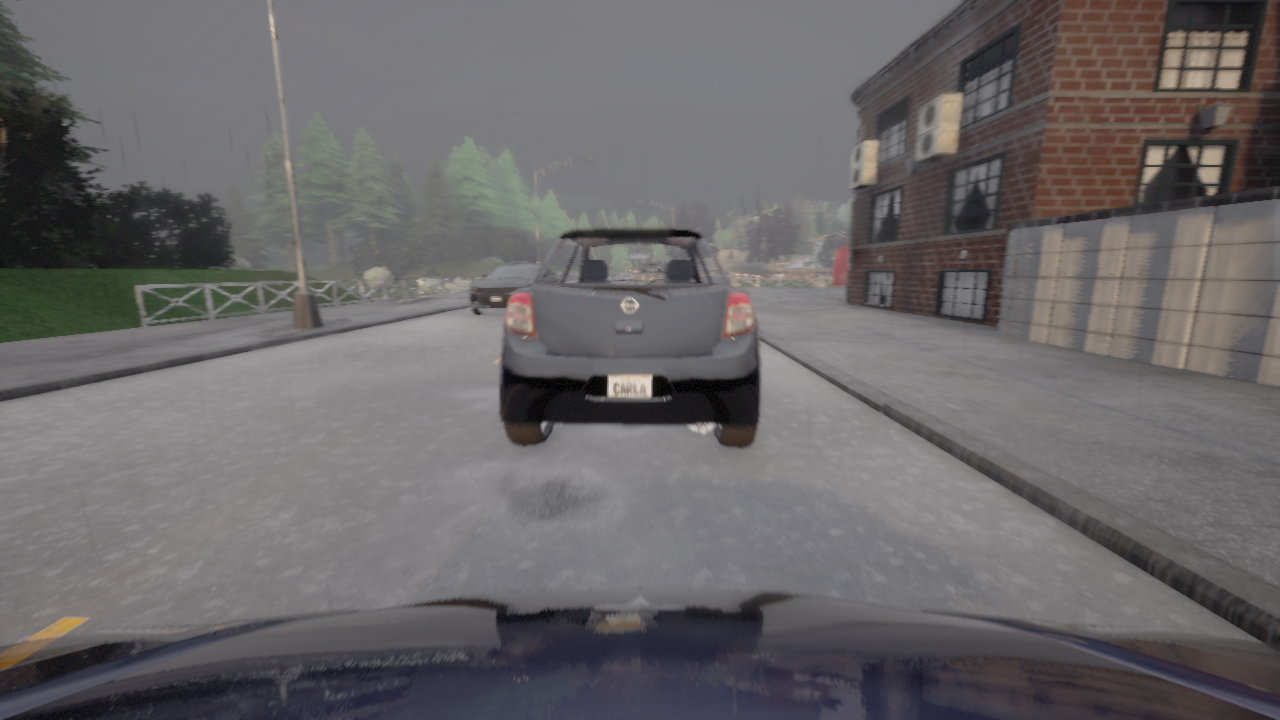cyclist: (0, 588, 1279, 719), (499, 228, 760, 447), (469, 262, 542, 314)
